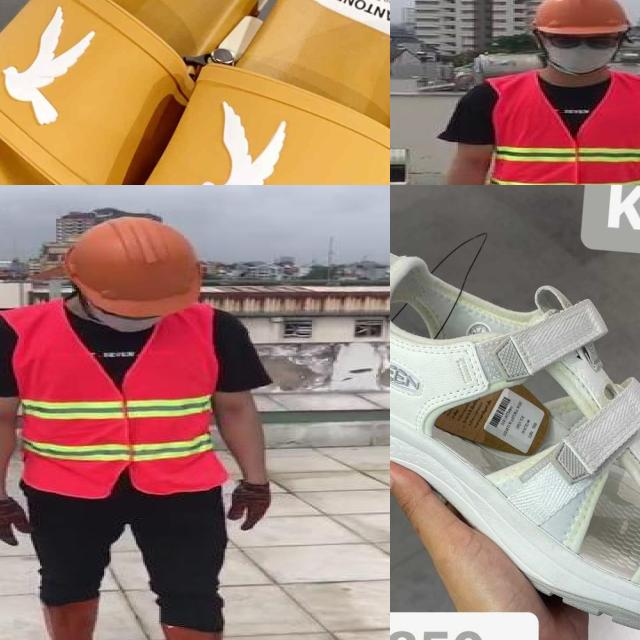Sandals: (390, 228, 640, 640), (0, 0, 390, 185)
boots: (22, 599, 96, 640)
face_mask: (541, 28, 626, 72)
glasses: (538, 28, 630, 54)
hand_glove: (227, 479, 273, 532), (0, 499, 33, 546)
head_helmet: (56, 210, 211, 317), (524, 0, 633, 36)
person: (0, 213, 299, 640), (422, 0, 640, 185)
vest: (3, 303, 225, 497), (490, 74, 640, 185)
